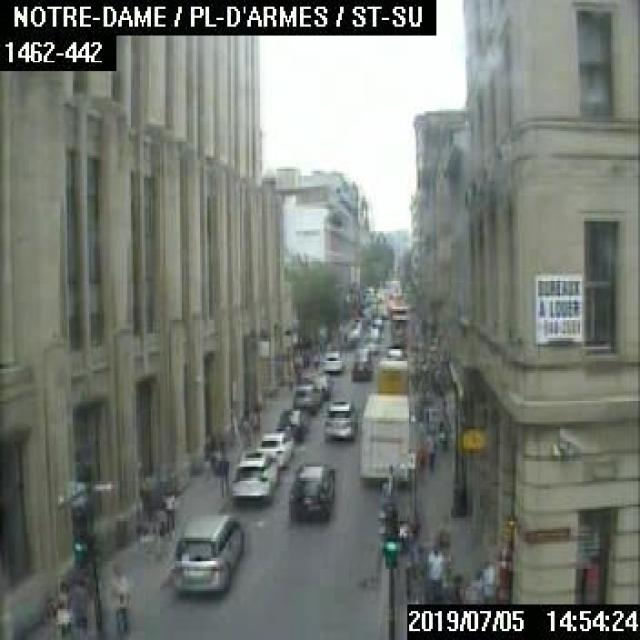pedestrian: (206, 429, 229, 498), (421, 544, 442, 600), (52, 580, 72, 638), (156, 484, 176, 540), (111, 584, 129, 638), (425, 430, 436, 470)
vehicle: (169, 509, 246, 600), (359, 391, 410, 486), (287, 460, 333, 520), (230, 447, 276, 504), (321, 396, 355, 440), (258, 430, 295, 467), (374, 358, 410, 392), (274, 407, 310, 438), (292, 385, 317, 411), (350, 351, 373, 376)
